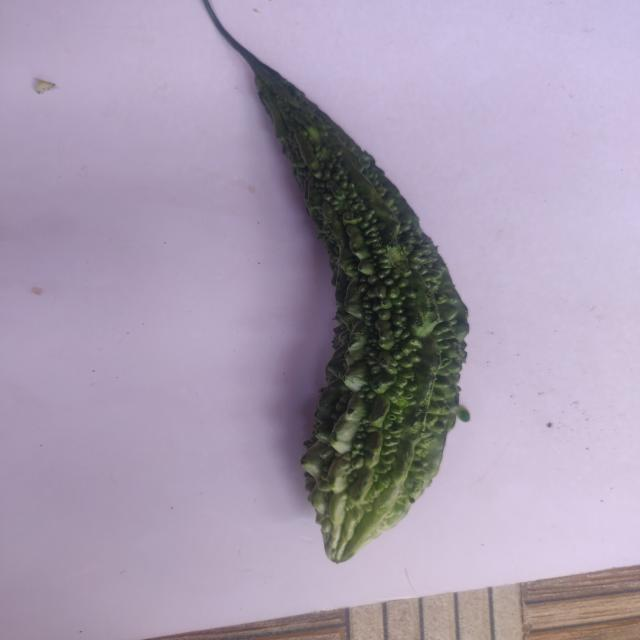Bitter Gourd: (178, 0, 505, 570)
